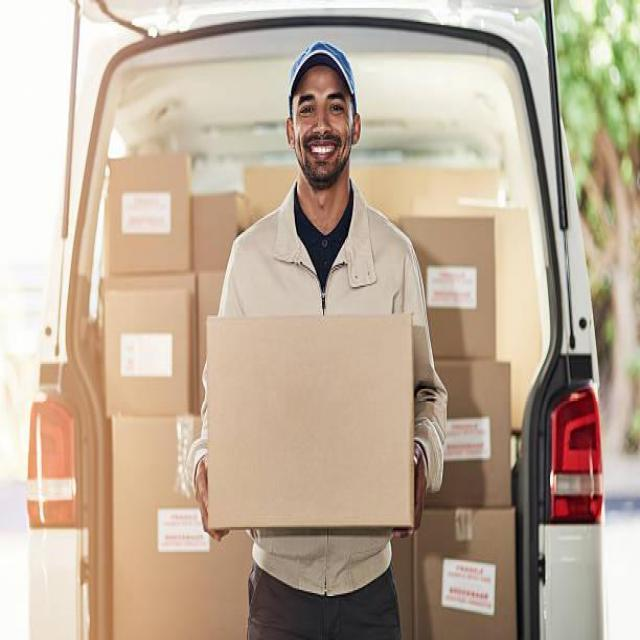box: (200, 304, 418, 535), (109, 408, 253, 640), (408, 502, 522, 640), (423, 358, 514, 519), (400, 211, 498, 360), (99, 281, 197, 425), (102, 150, 192, 274)
